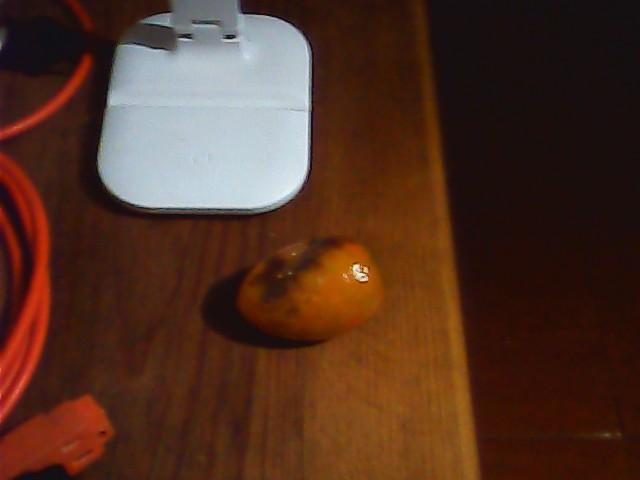defectuoso: (236, 233, 383, 344)
